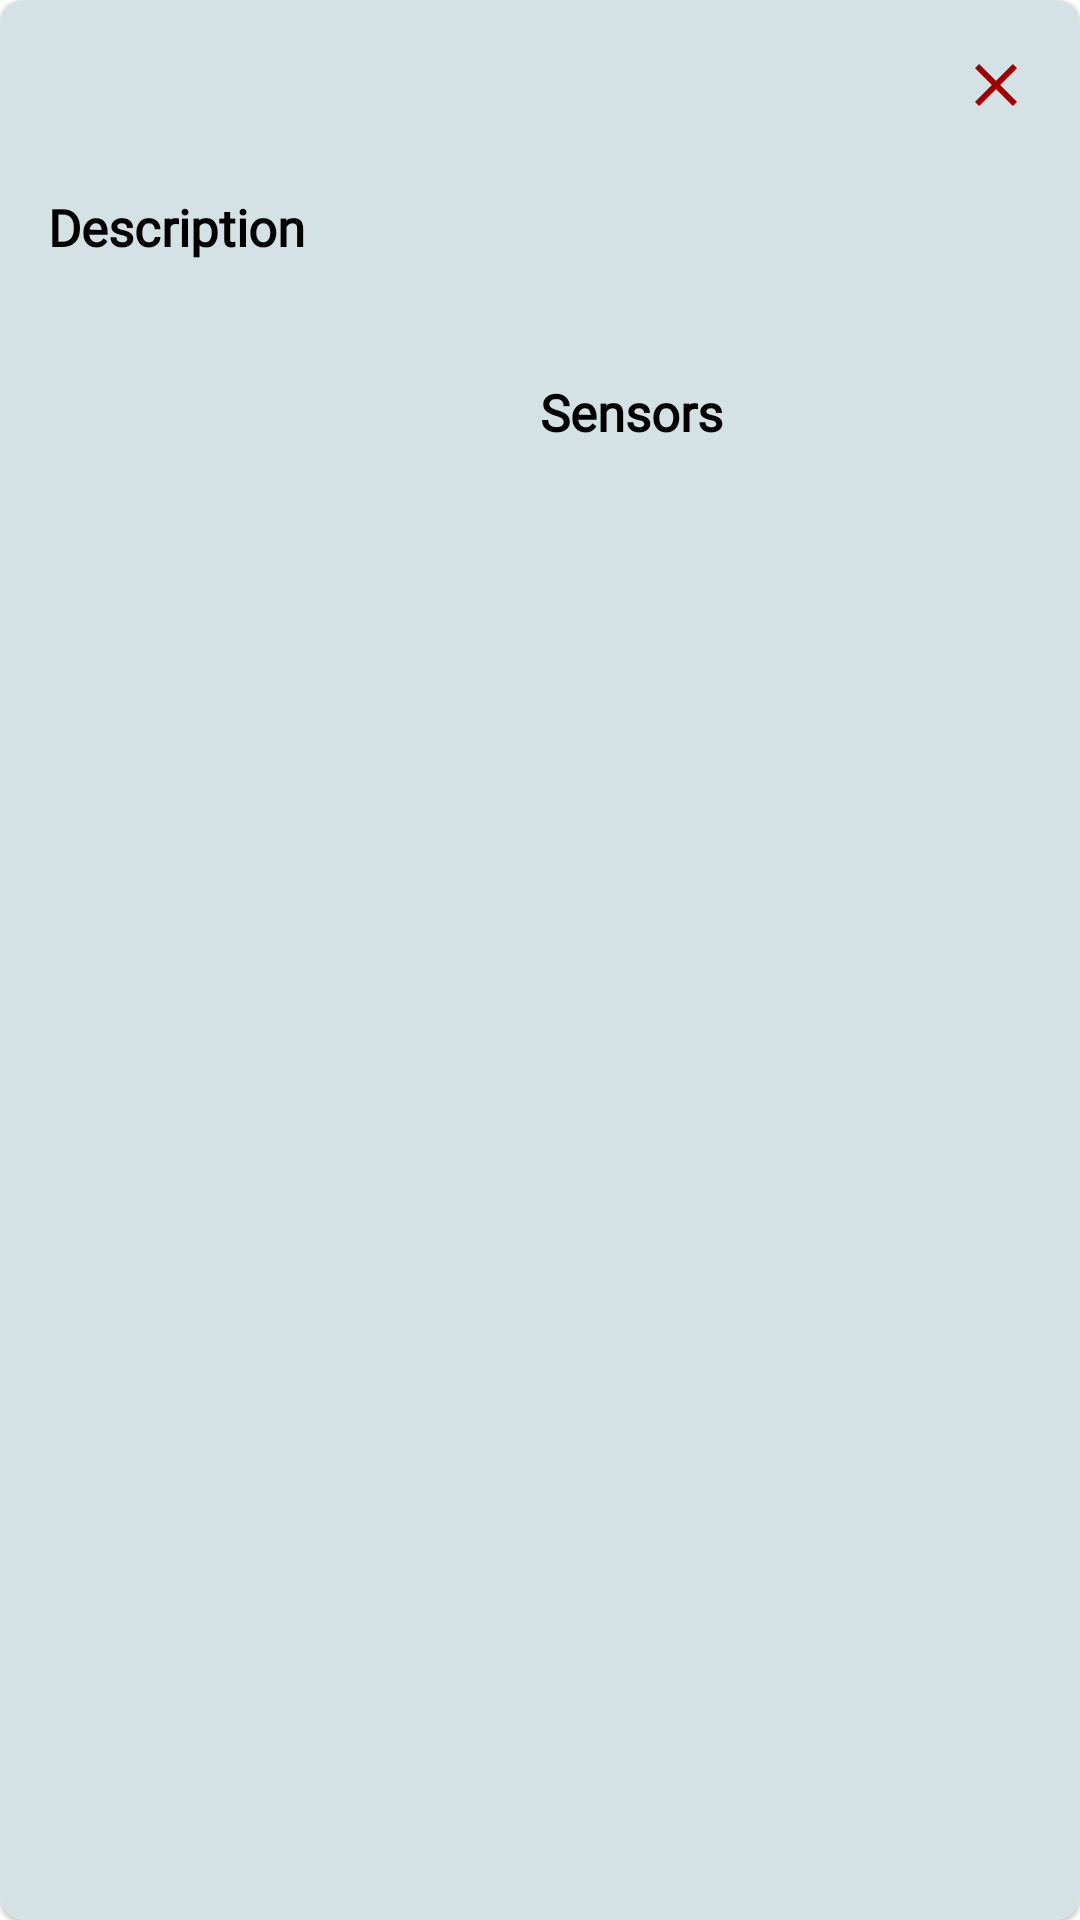

Icon click points for this 1080px×1920px phone screenshot, format [x,y]:
close: [996,85]
